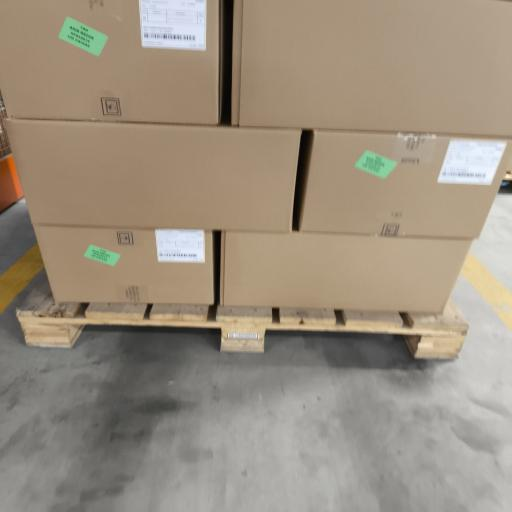pallet: (17, 281, 467, 358), (504, 171, 511, 181)
